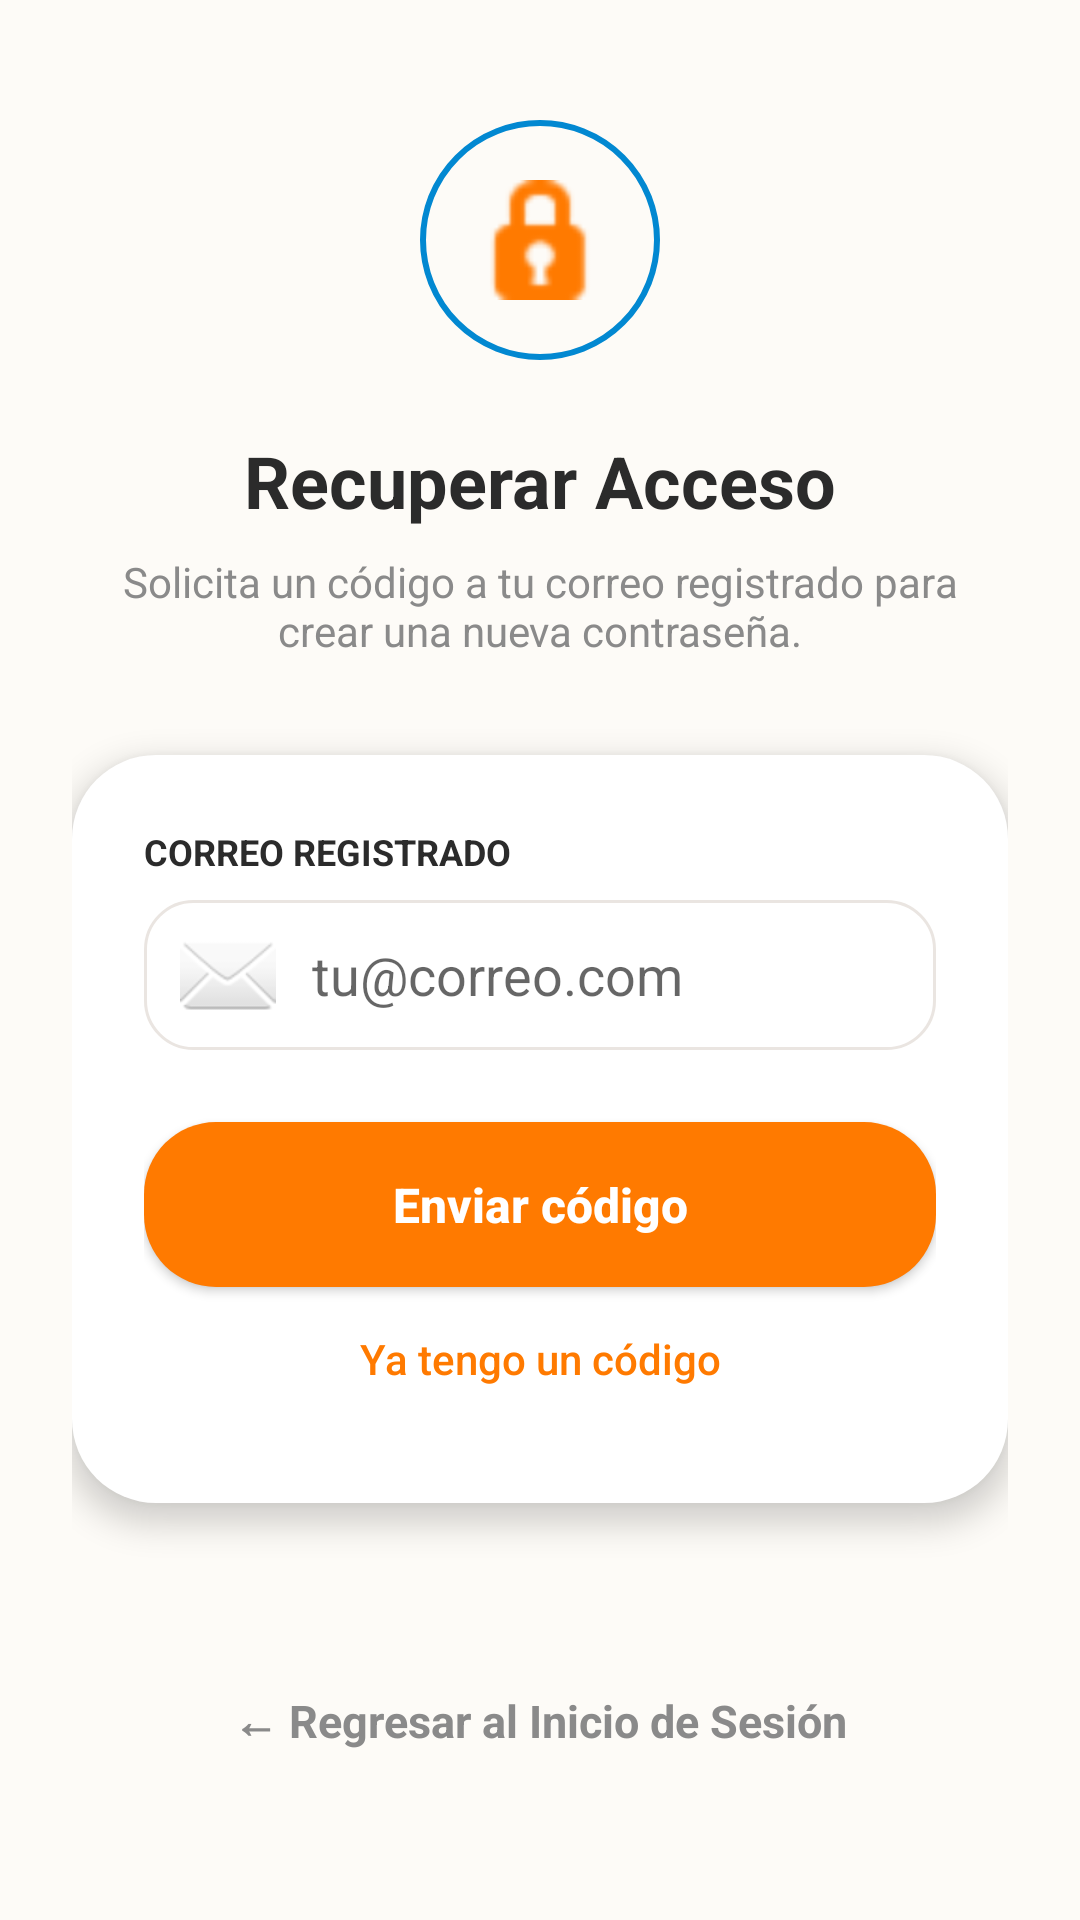

Named icons in this screenshot (1080×1920) and their bounding boxes, [x1=x1, y1=y1, x2=x2, y2=y2]:
secure: [x1=420, y1=120, x2=660, y2=360]
